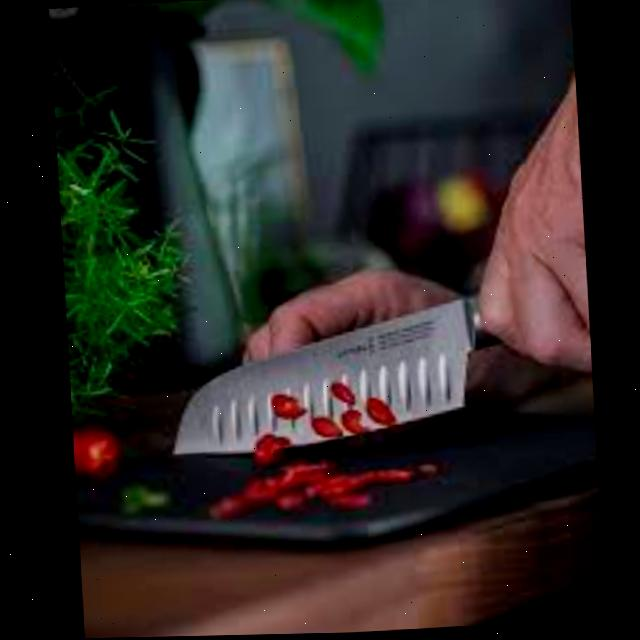knife: (253, 0, 597, 508), (159, 296, 487, 457), (453, 107, 590, 385)
